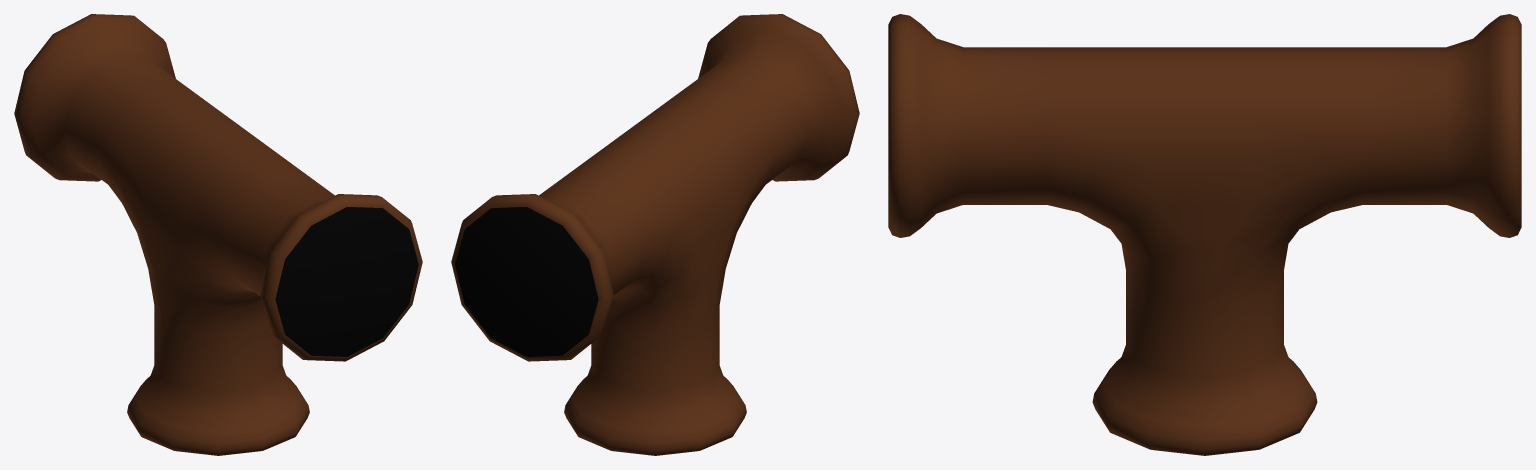
File: Pipe_T_2m.fbx
The picture shows the model from 3 angles, left to right: view 1: azimuth 30°, elevation 25°; view 2: azimuth 150°, elevation 25°; view 3: azimuth 270°, elevation 25°; orthographic projection. The views are drawn at different scales.
Visible parts, largest first — view 1: Pipe_T_2m; view 2: Pipe_T_2m; view 3: Pipe_T_2m.
Part boxes in pixels (bbox=[...]): Pipe_T_2m: bbox=[14, 14, 422, 455]; Pipe_T_2m: bbox=[451, 14, 859, 455]; Pipe_T_2m: bbox=[888, 14, 1521, 455].
Bounding box in the file's own units: 71.06 × 136 × 200.
